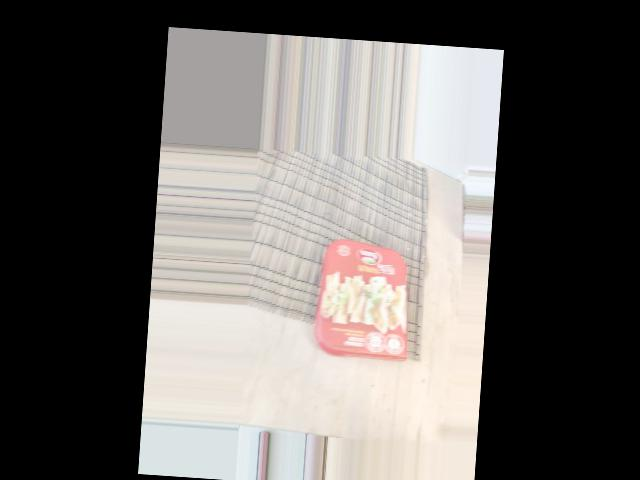cheese: (244, 223, 377, 321)
